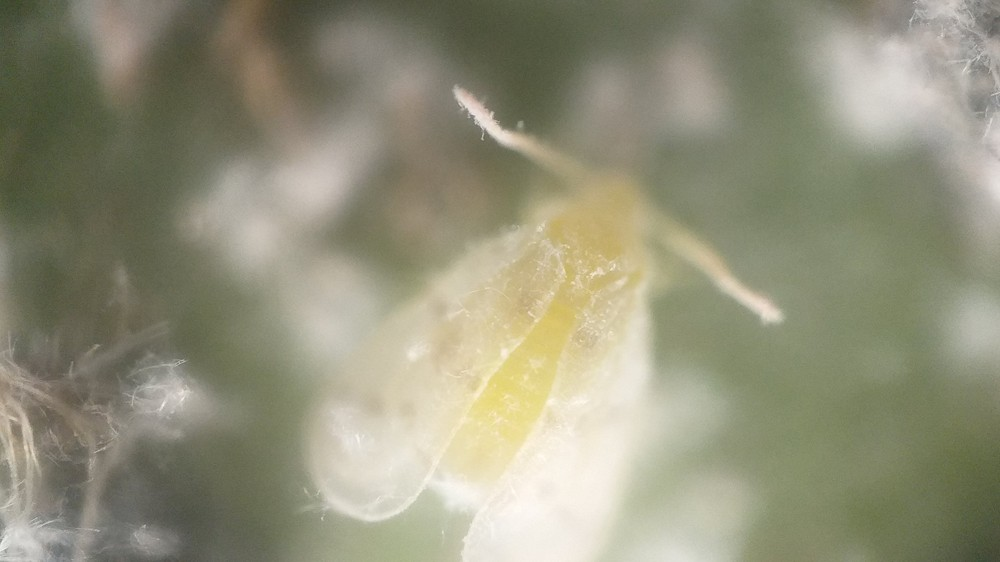Mosca Blanca: (285, 80, 793, 562)
